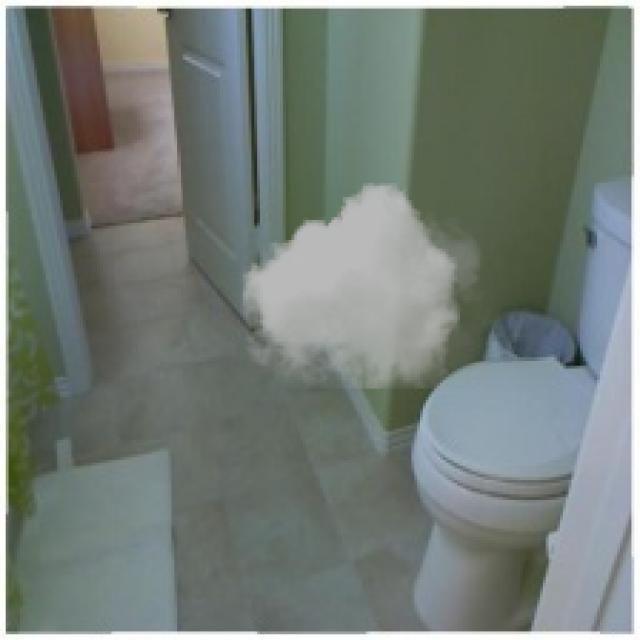Smoke: (237, 182, 489, 388)
